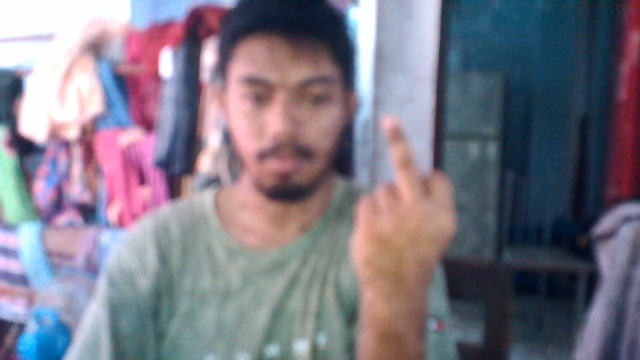fucku: (345, 115, 463, 292)
